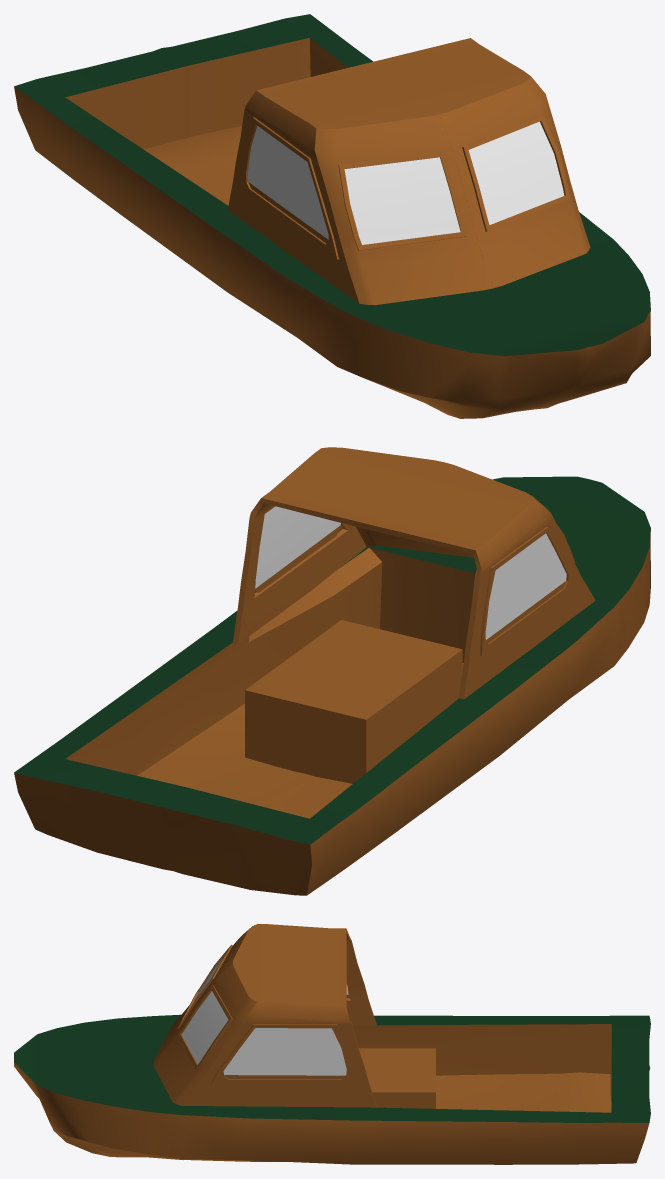
The model's file is GigboatShallow.fbx.
3 views of the same model, one above another, from view 1: azimuth 30°, elevation 25°; view 2: azimuth 150°, elevation 25°; view 3: azimuth 270°, elevation 25° (orthographic). The views are drawn at different scales.
Parts seen in each view (by area): view 1: Hull, Cabin; view 2: Hull, Cabin, Box; view 3: Hull, Cabin, Box.
Boxes of the visible parts, box(x1,y1,x2,y2) form: Hull: box(14, 14, 650, 418); Cabin: box(227, 38, 590, 305); Hull: box(14, 476, 650, 895); Cabin: box(232, 447, 595, 699); Box: box(245, 620, 462, 783); Hull: box(14, 1014, 650, 1164); Cabin: box(153, 924, 376, 1107); Box: box(358, 1048, 435, 1108).
Bounding box in the file's own units: 284 × 217 × 713.
